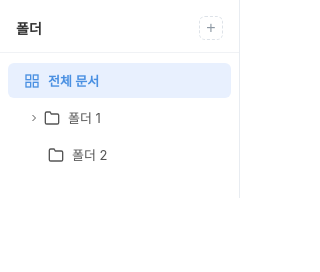
it: FolderTree › chevron 클릭 시 하위 폴더가 펼쳐진다
Click the element with test id "chevron-f1" at [34, 118], box [28, 112, 40, 124]
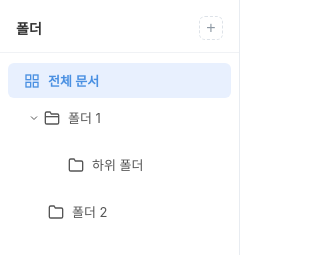
Expected: the text "하위 폴더" is shown, [92, 157, 144, 173]
